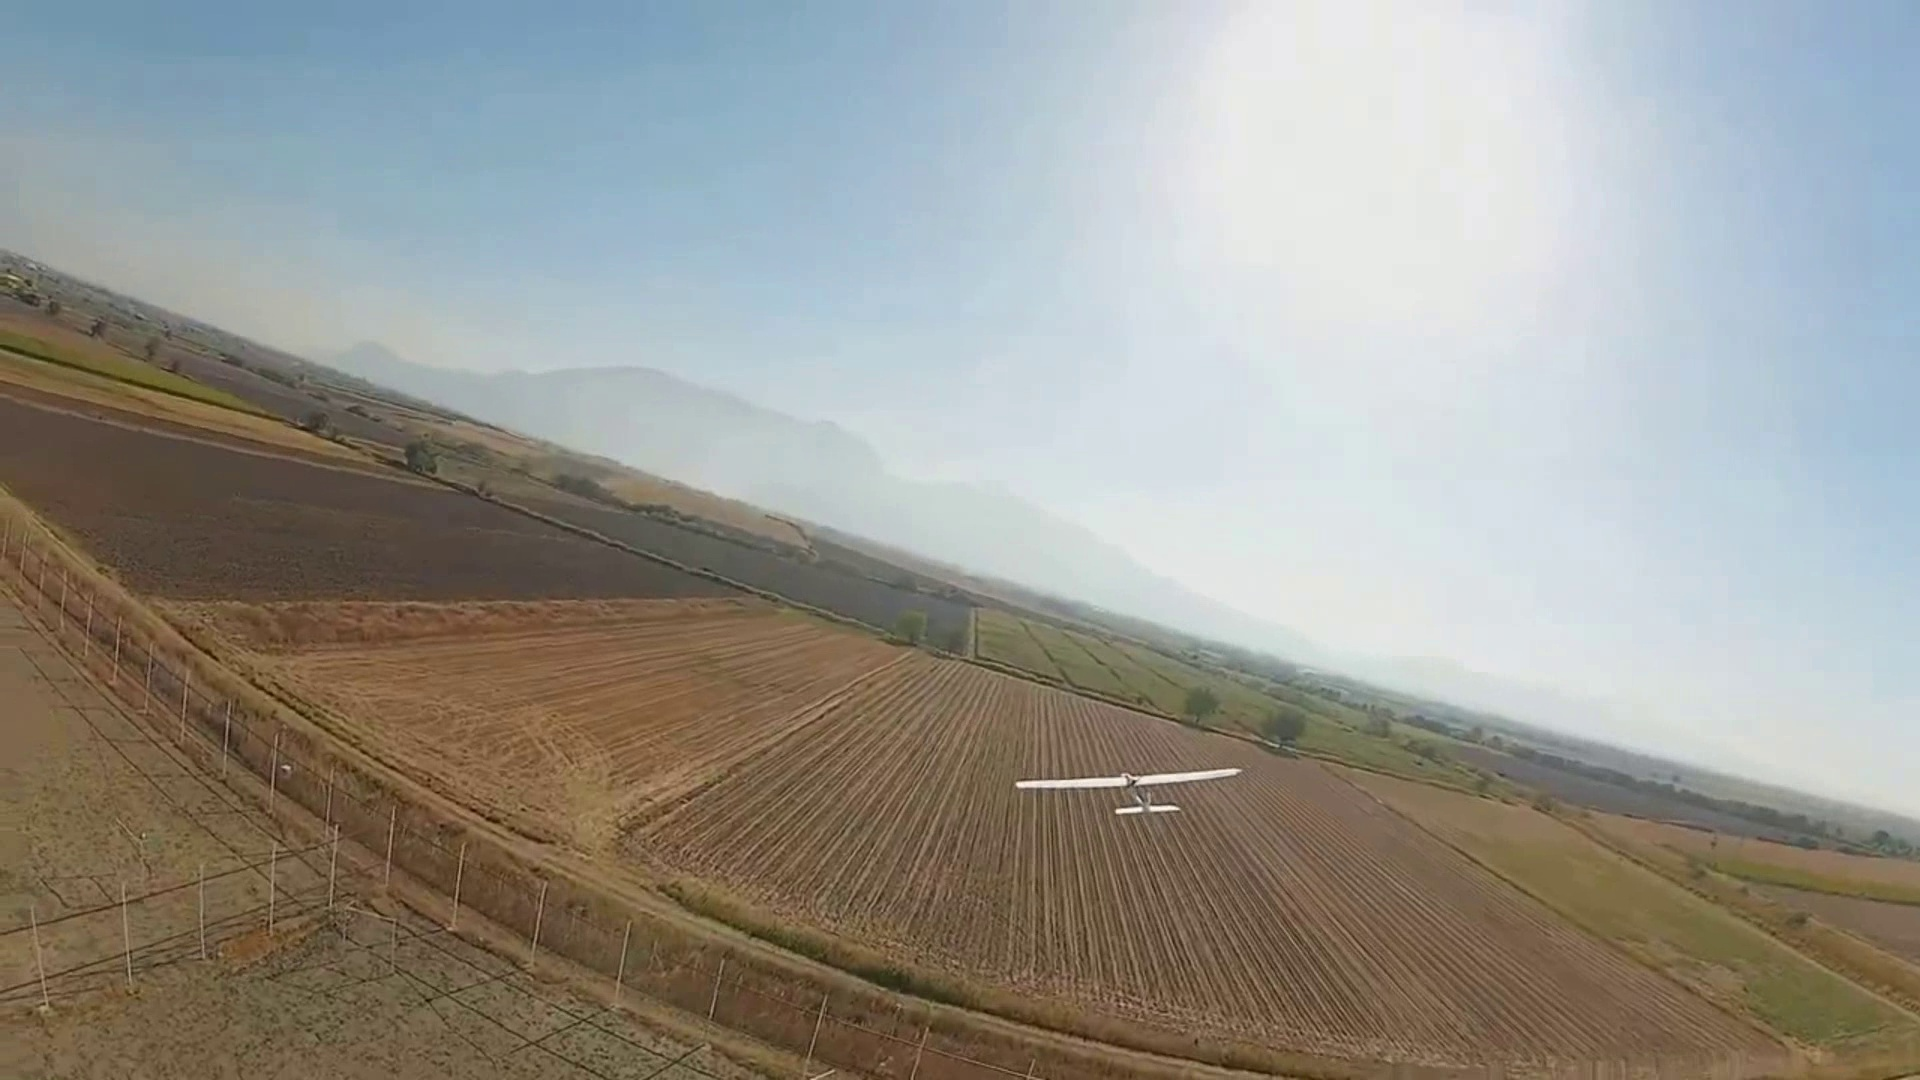airplane: (0, 241, 1907, 794)
